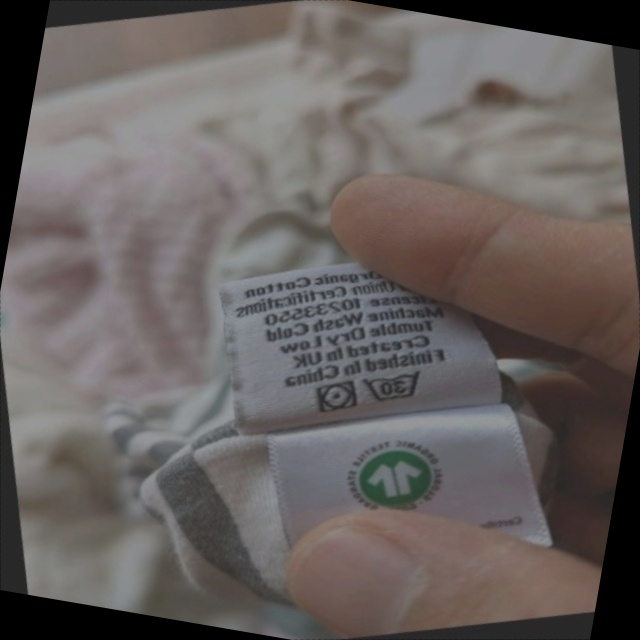30C: (353, 355, 435, 418)
tumble_dry_low: (306, 369, 367, 425)
